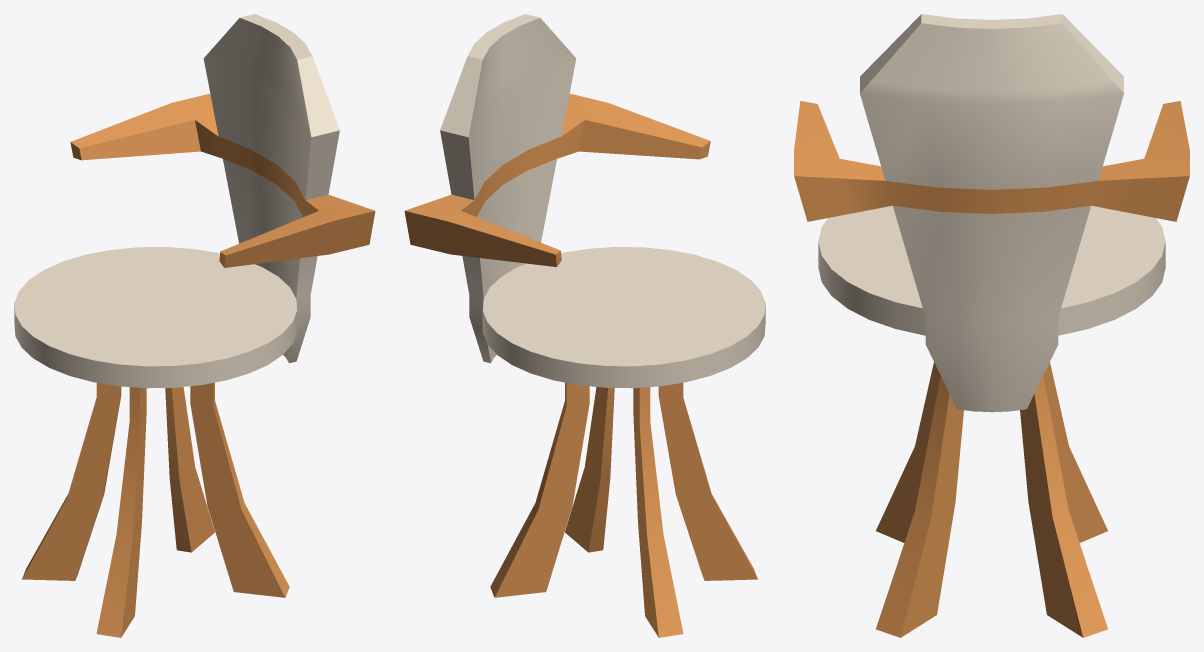
Rendered from chair.fbx.
3 views of the same model, side by side, from view 1: azimuth 30°, elevation 25°; view 2: azimuth 150°, elevation 25°; view 3: azimuth 270°, elevation 25° (orthographic). The views are drawn at different scales.
Visible parts, largest first — view 1: Cylinder.001; view 2: Cylinder.001; view 3: Cylinder.001.
Part boxes in pixels (left/top/right/bottom): Cylinder.001: left=14, top=14, right=375, bottom=637; Cylinder.001: left=404, top=14, right=765, bottom=637; Cylinder.001: left=794, top=14, right=1189, bottom=637.
Bounding box in the file's own units: 221 × 403 × 228.
